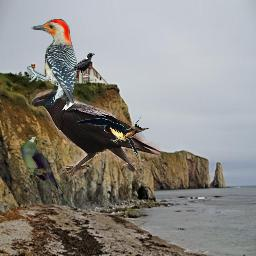Crow: (30, 89, 161, 180), (67, 52, 95, 76)
Cuckoo: (20, 136, 75, 207)
Swallow: (75, 114, 163, 160)
Woodpecker: (27, 19, 79, 108)
